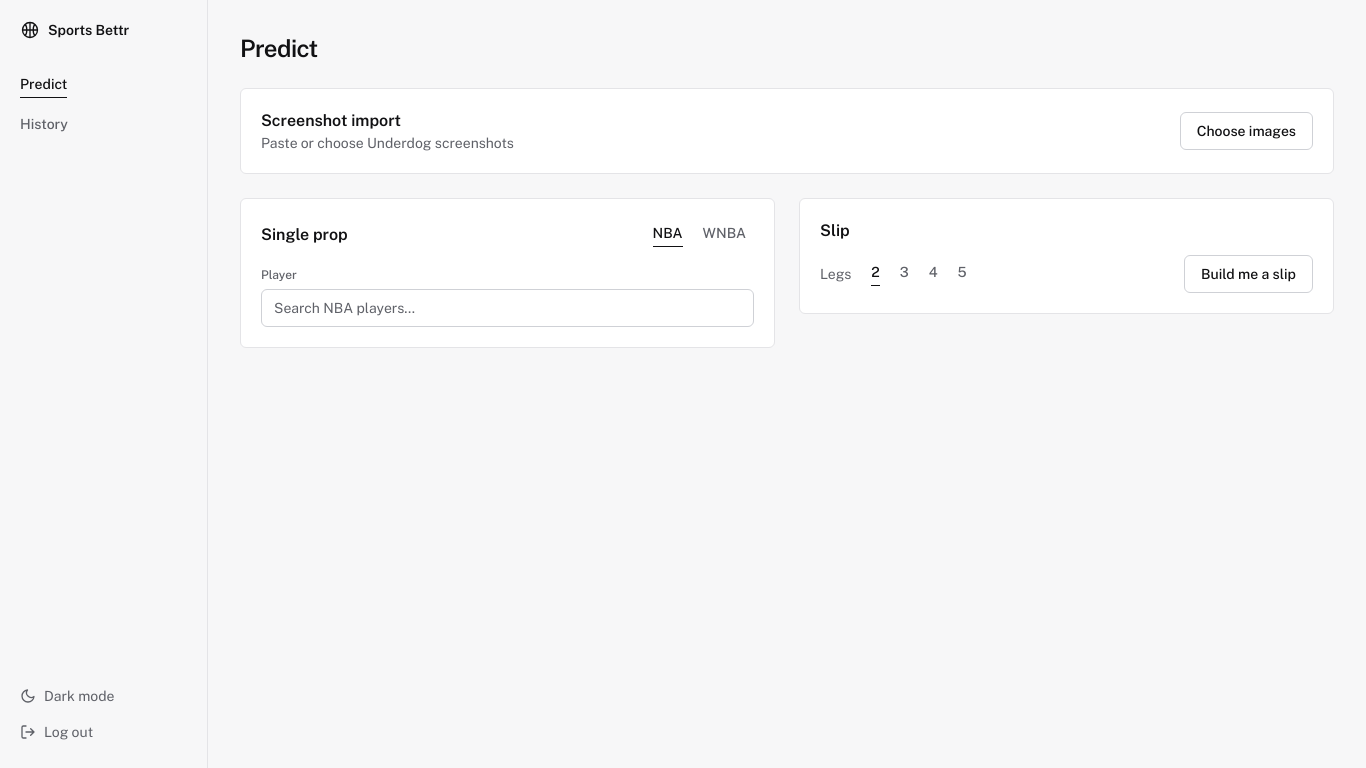
any 401 after logging in sends the app back to the login page
Click the button "History".
click(104, 126)  # box [12,108,195,144]
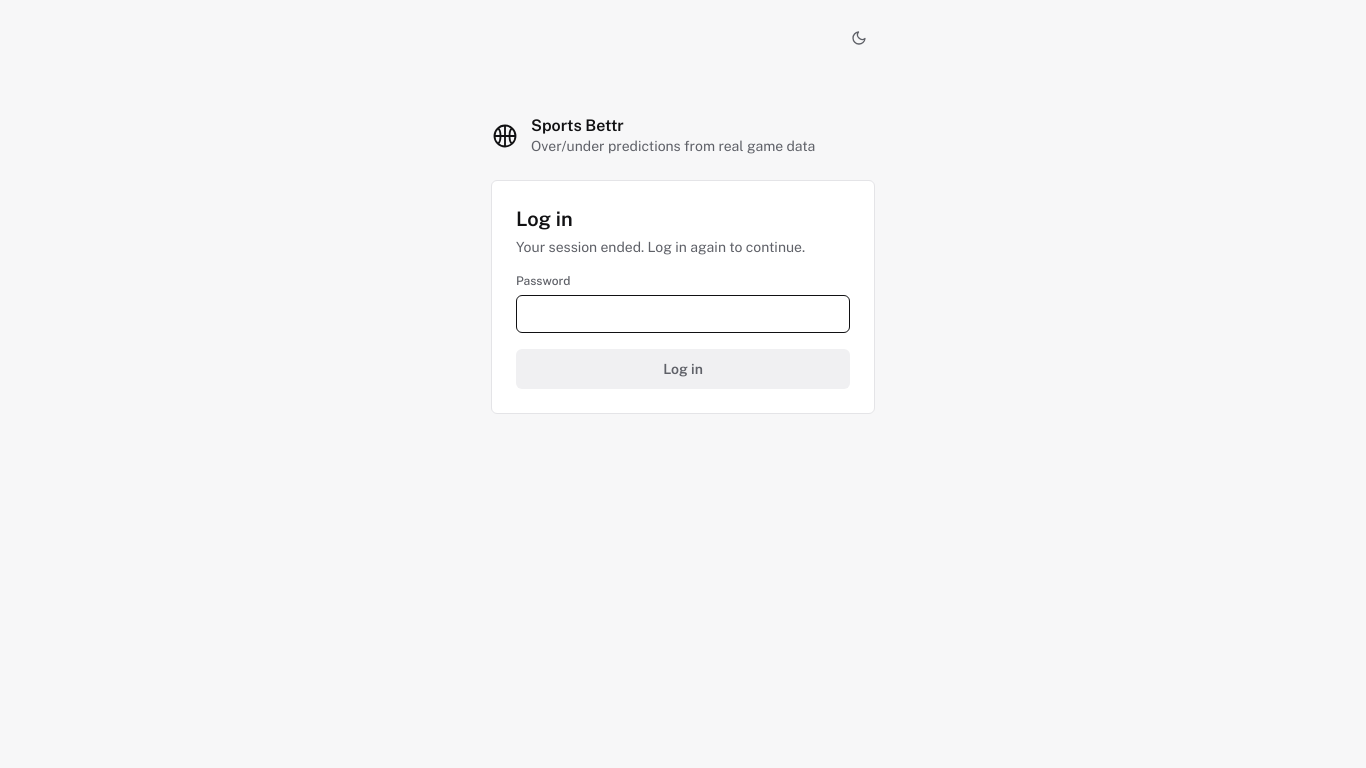
Now the text "Your session ended. Log in again to continue." is shown, box [516,237,850,257]
